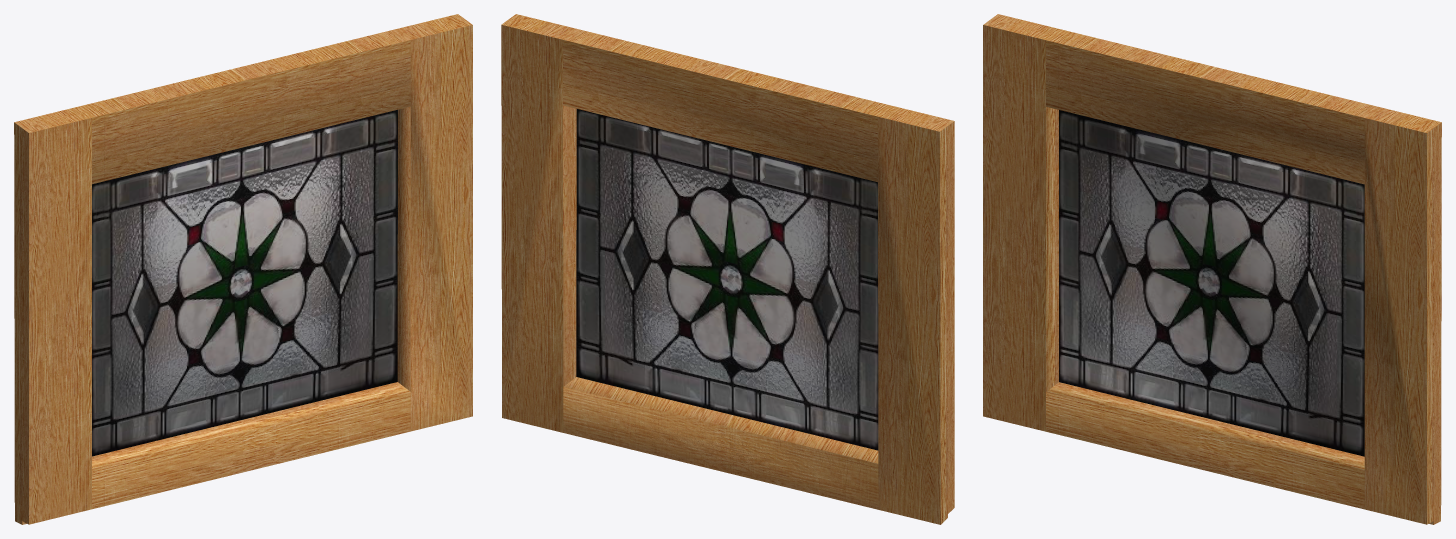
File: StableDoorOakUPPER02.fbx
The picture shows the model from 3 angles, left to right: view 1: azimuth 30°, elevation 25°; view 2: azimuth 150°, elevation 25°; view 3: azimuth 330°, elevation 25°; orthographic projection.
Parts seen in each view (by area): view 1: default; view 2: default; view 3: default.
Boxes of the visible parts, <box> form: default: <box>14,14,472,524</box>; default: <box>501,14,954,524</box>; default: <box>983,14,1441,524</box>.
Size of the model in its own units: 113 by 96.82 by 6.56.
